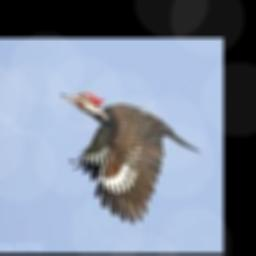Woodpecker: (61, 92, 201, 224)
